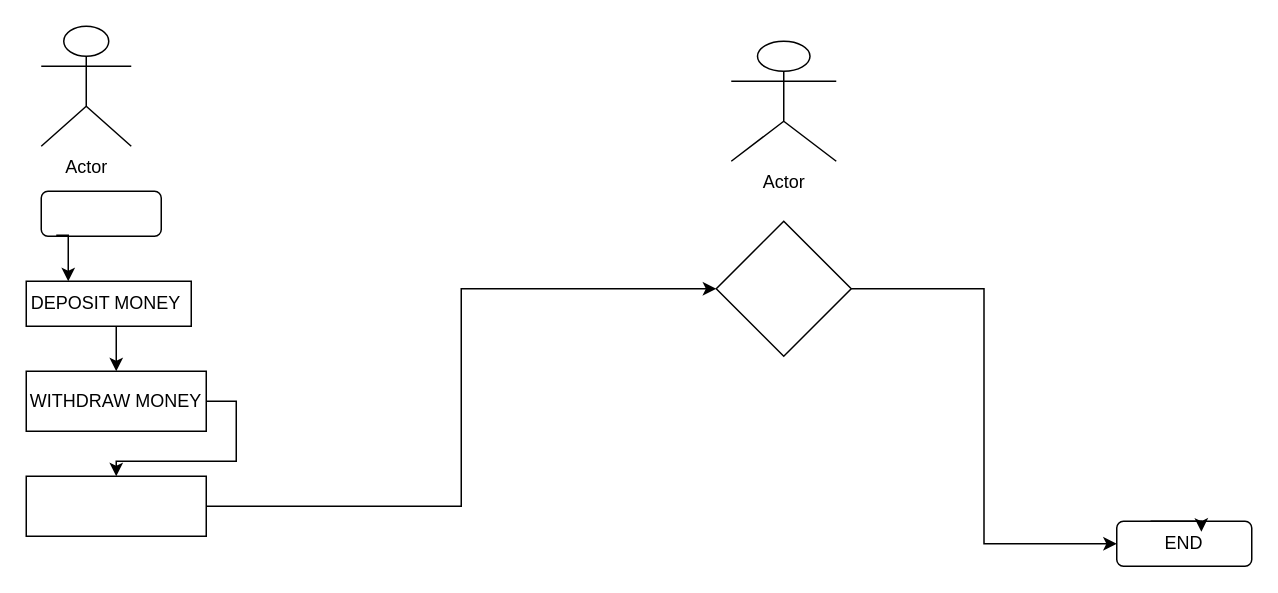
Image size: 1278x593. Some labels were removed from this diagram. Here are the shapes that lost their labels. From the top down, the centre of each, then its label:
the point at 100,213: START
the point at 783,288: LOAN APPROVAL
the point at 115,505: APPLY FOR LOAN
